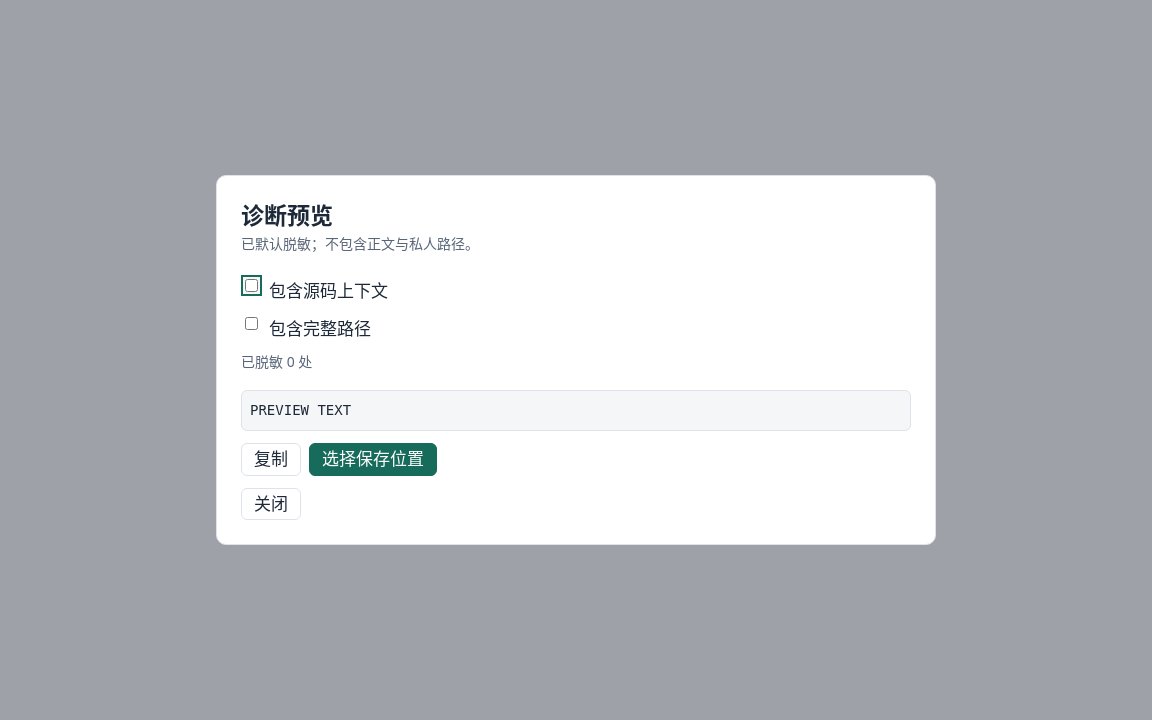
Test case: ExportPreviewDialog › rejects a protected target with an explanation and never writes
Expected: the text "PREVIEW TEXT" is shown, [241,390,911,431]
Click the button "选择保存位置" at (373, 460), box [309,443,437,476]
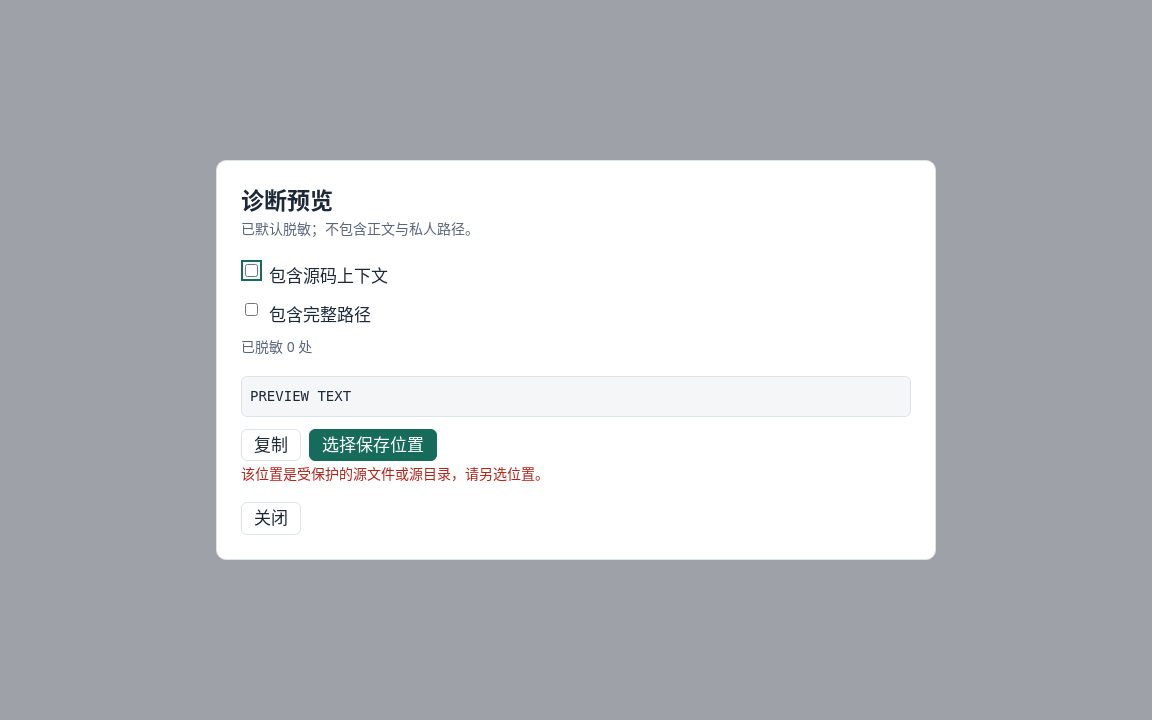
Expected: the text "PREVIEW TEXT" is shown, [241,376,911,417]
Expected: the text "该位置是受保护的源文件或源目录，请另选位置。" is shown, [241,464,549,483]
